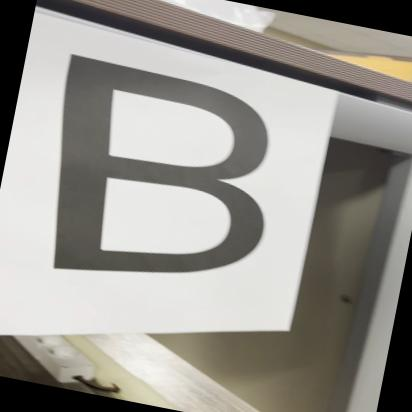seat: (15, 39, 302, 312)
